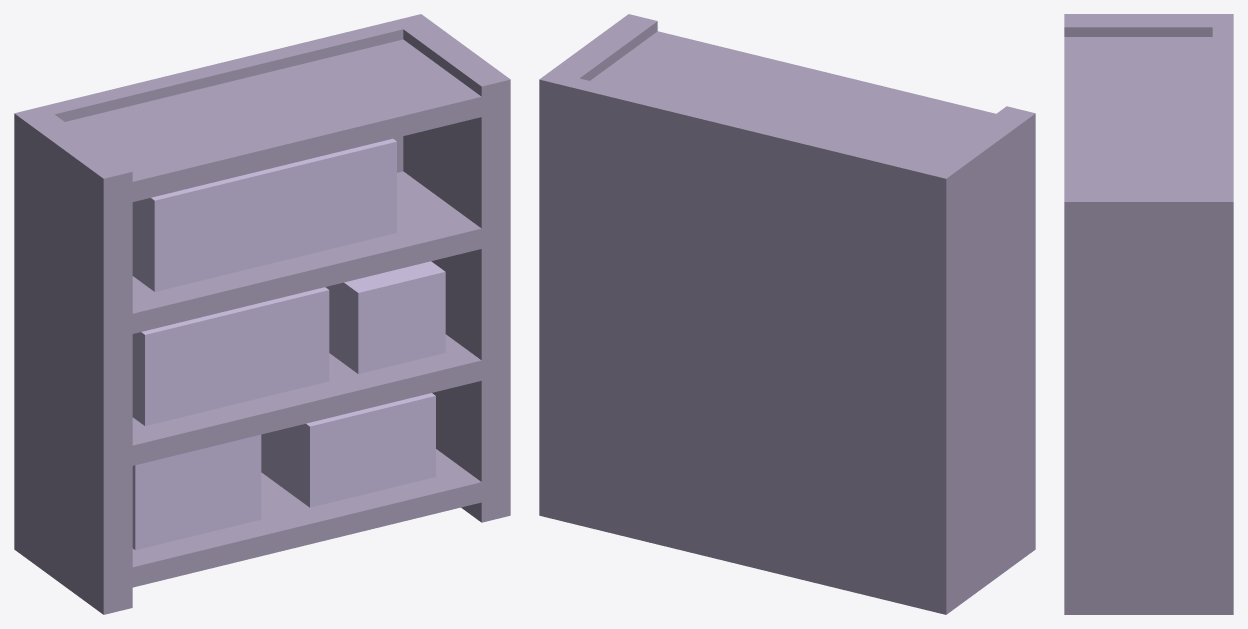
The model's file is bookcaseOpen.glb.
The picture shows the model from 3 angles, left to right: view 1: azimuth 30°, elevation 25°; view 2: azimuth 150°, elevation 25°; view 3: azimuth 270°, elevation 25°; orthographic projection. The views are drawn at different scales.
Parts seen in each view (by area): view 1: bookcaseOpen; view 2: bookcaseOpen; view 3: bookcaseOpen.
Boxes of the visible parts, box(x1,y1,x2,y2) form: bookcaseOpen: box(14, 14, 510, 614); bookcaseOpen: box(539, 14, 1035, 614); bookcaseOpen: box(1064, 14, 1233, 614).
Size of the model in its own units: 0.84 by 0.86 by 0.32.
